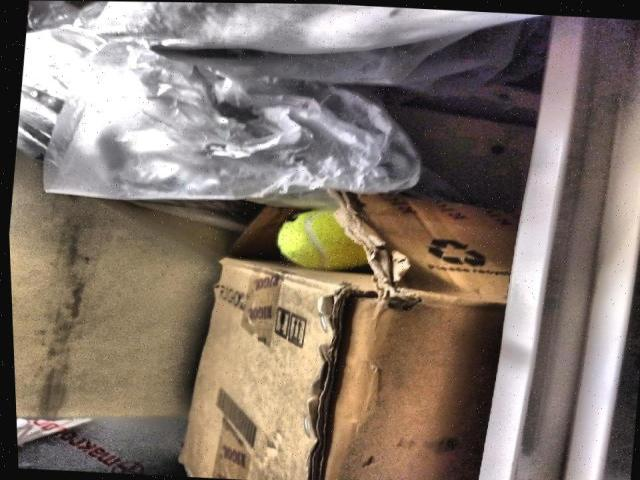tennis-ball: (276, 209, 365, 269)
